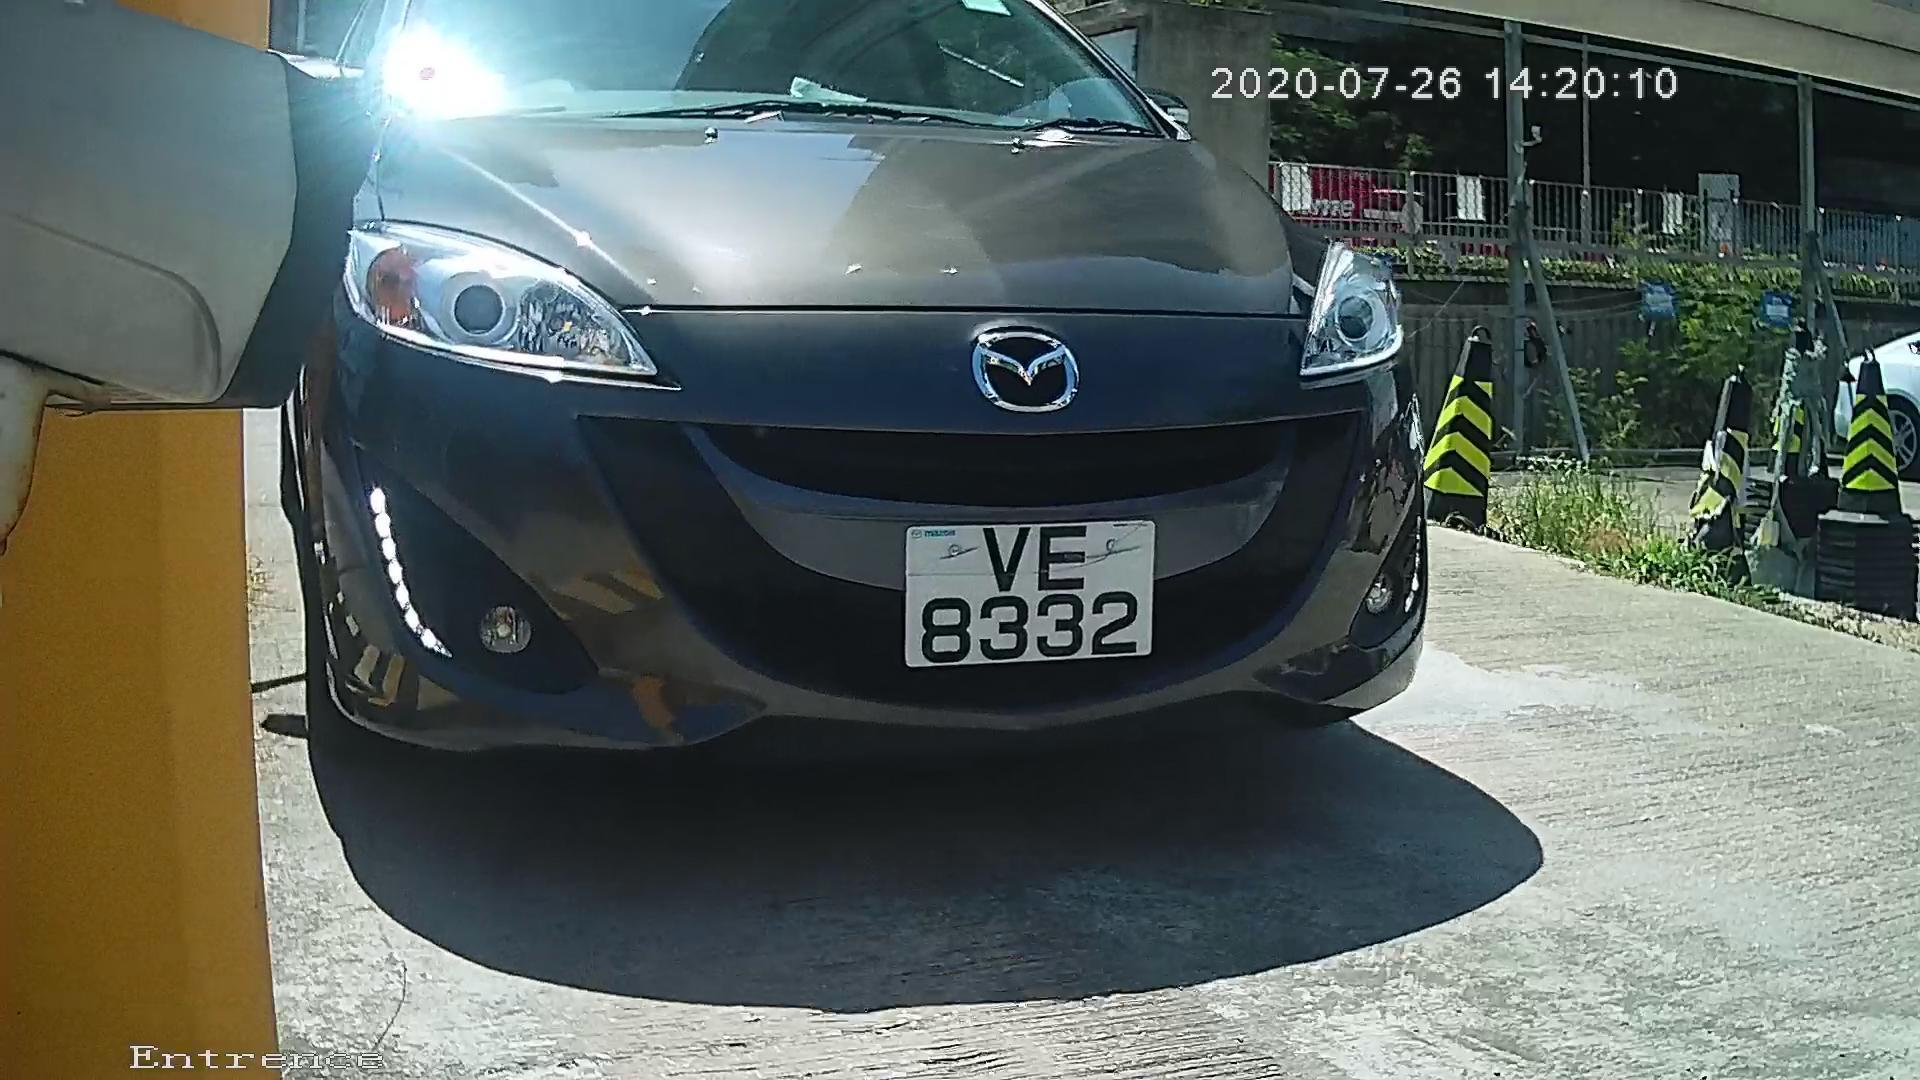privatecar: (249, 20, 1466, 878)
